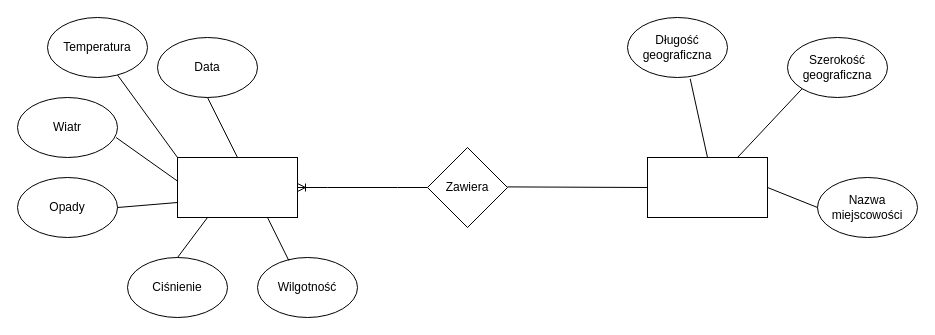
The diagram is 935 pixels wide and 335 high, and some of its shapes have lost their labels. The centre of each missing label's shape, as x and y in pixels:
Miejscowość: point 707,187
Prognoza pogody: point 237,187
